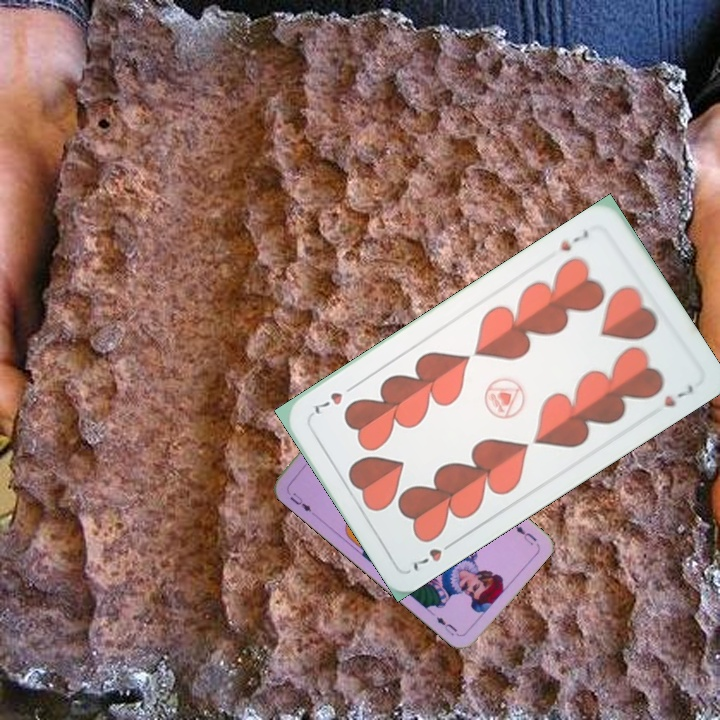EU: (283, 487, 317, 517), (511, 522, 540, 548)
H7: (409, 536, 459, 574), (556, 225, 592, 254)
